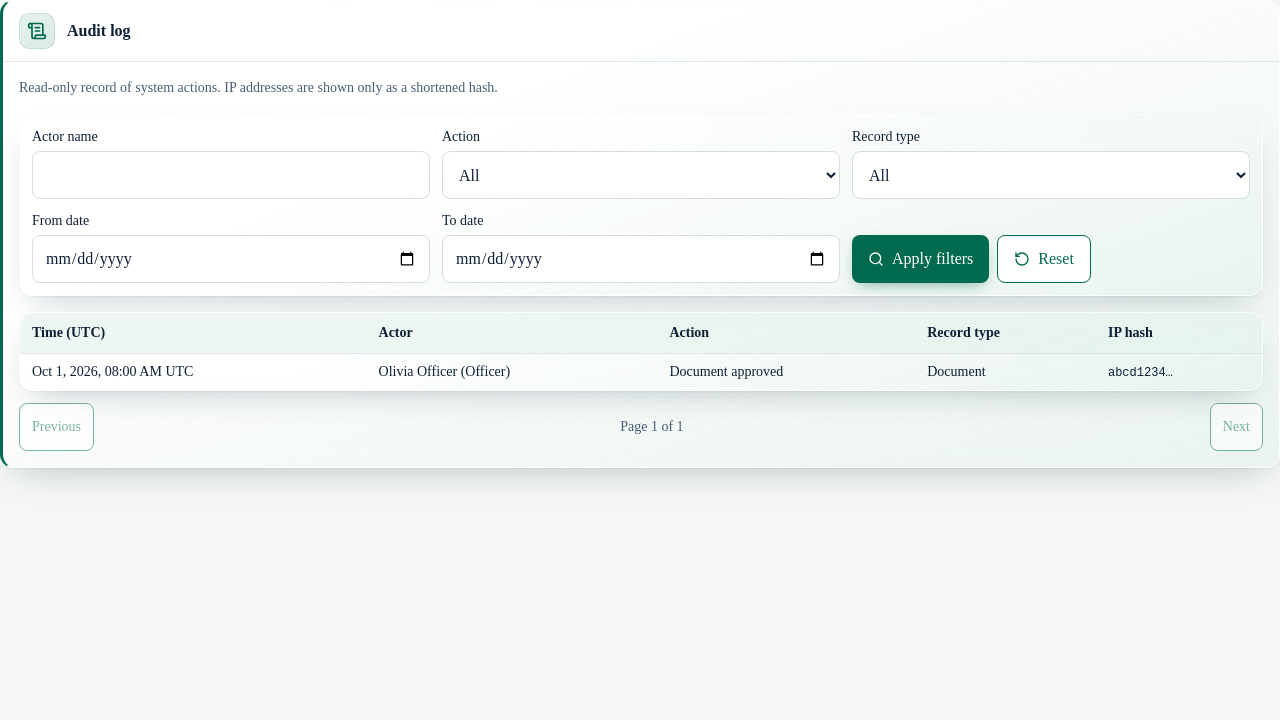
Test: audit logs › blocks an inverted date range
Expected: the element with test id "audit-table" is shown, 19,312 -> 1263,451
Type "2026-10-02" into the date field labelled "From date".
click(231, 259); type("2026-10-02")  # box 32,235 -> 430,283
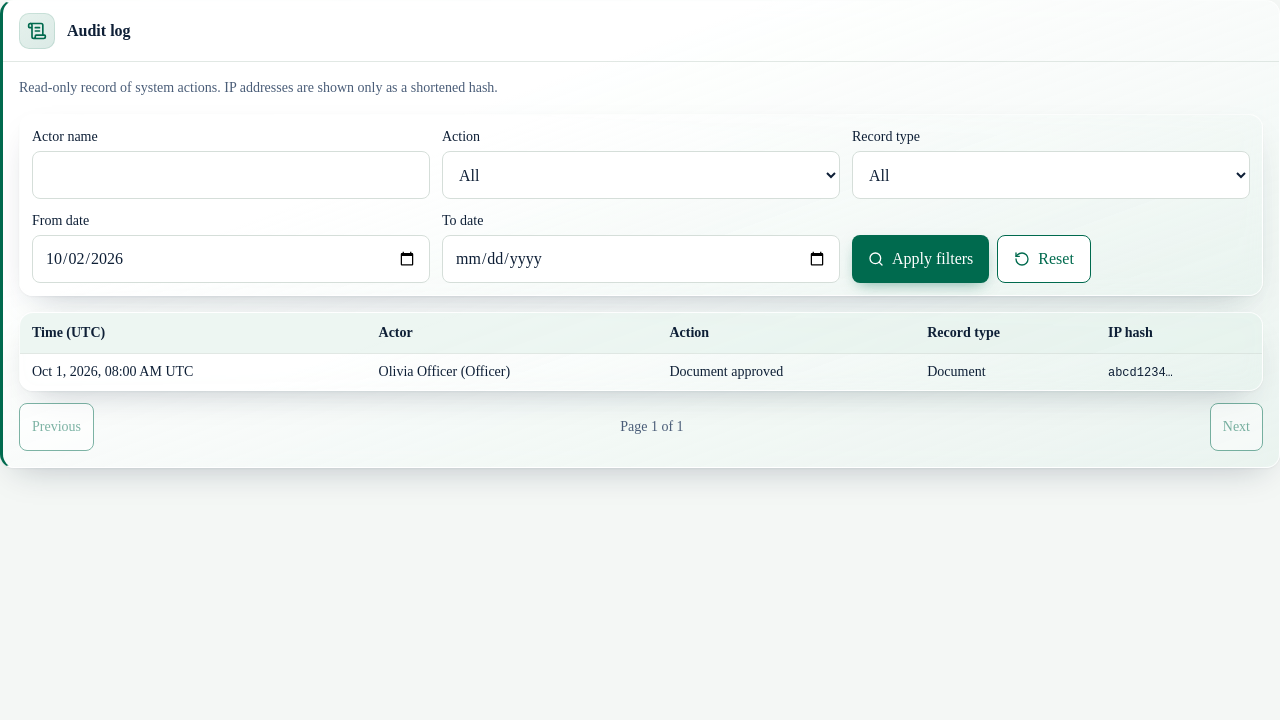
Type "2026-10-01" into the date field labelled "To date".
click(641, 259); type("2026-10-01")  # box 442,235 -> 840,283
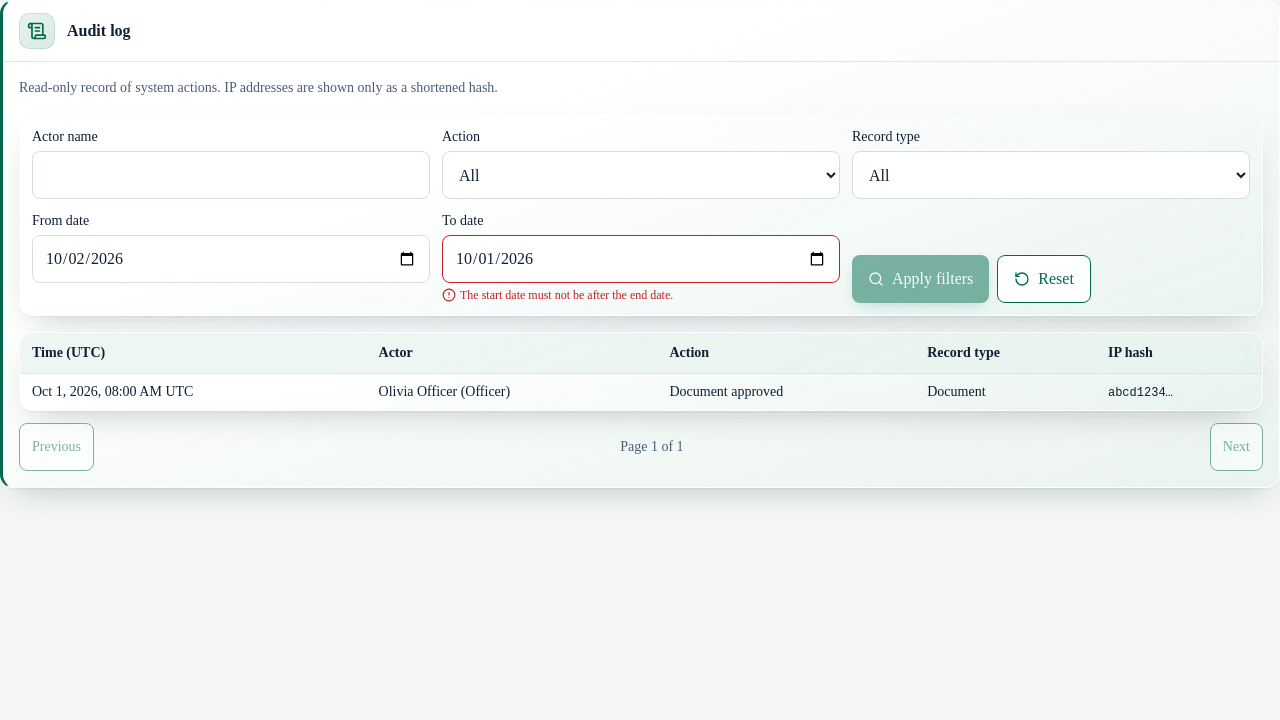
Result: the message shows "must not be after" at 460,288 -> 673,302
Result: the button "Apply filters" is disabled at 852,255 -> 989,303
